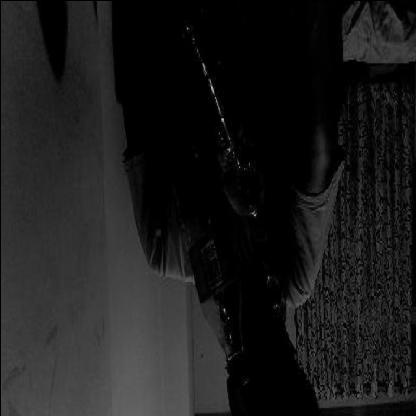plastic_bottles: (164, 4, 270, 245), (167, 126, 251, 391)
